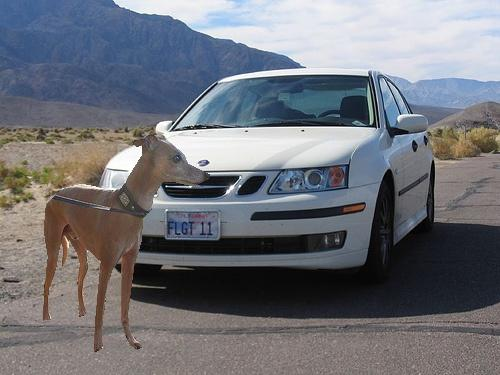tampered: (44, 136, 210, 352)
